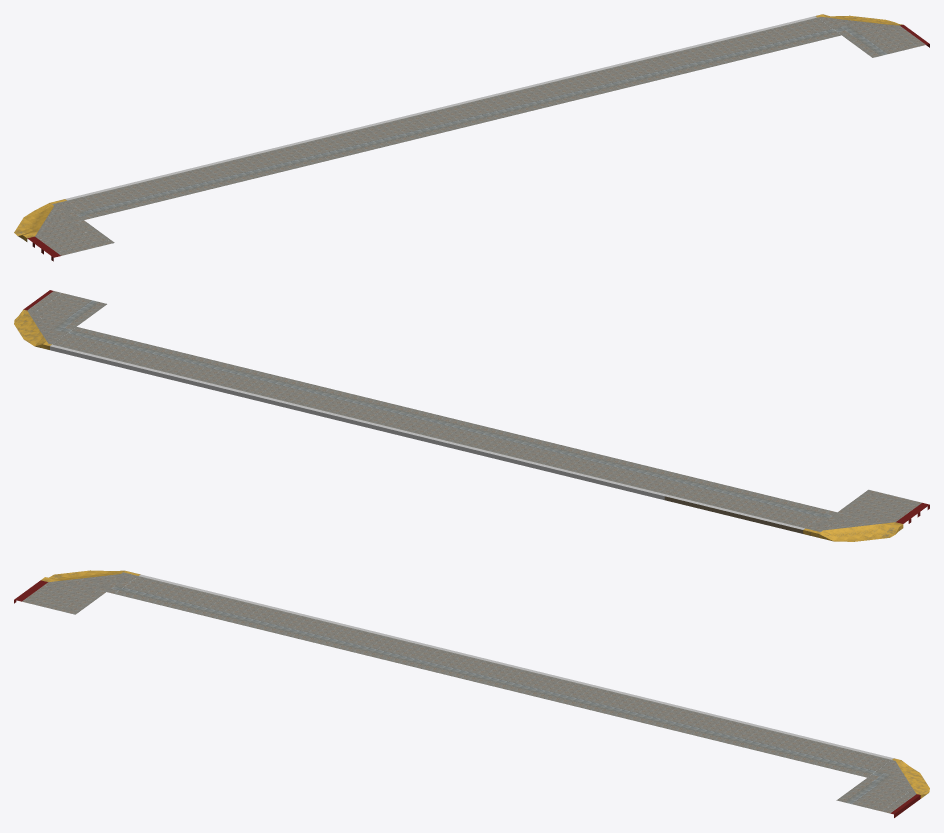
Rendered from SideWalker_Plaza_MarceloTAlvear.fbx.
The picture shows the model from 3 angles, top to bottom: view 1: azimuth 30°, elevation 25°; view 2: azimuth 150°, elevation 25°; view 3: azimuth 330°, elevation 25°; orthographic projection.
Parts seen in each view (by area): view 1: Cordon_SideWalker_paseoArtes.004; view 2: Cordon_SideWalker_paseoArtes.004; view 3: Cordon_SideWalker_paseoArtes.004.
Boxes of the visible parts, x1,y1,x2,y2 form: Cordon_SideWalker_paseoArtes.004: (14,14,929,261); Cordon_SideWalker_paseoArtes.004: (14,290,929,541); Cordon_SideWalker_paseoArtes.004: (14,570,929,817).
Bounding box in the file's own units: 115 × 0.5139 × 13.01.
